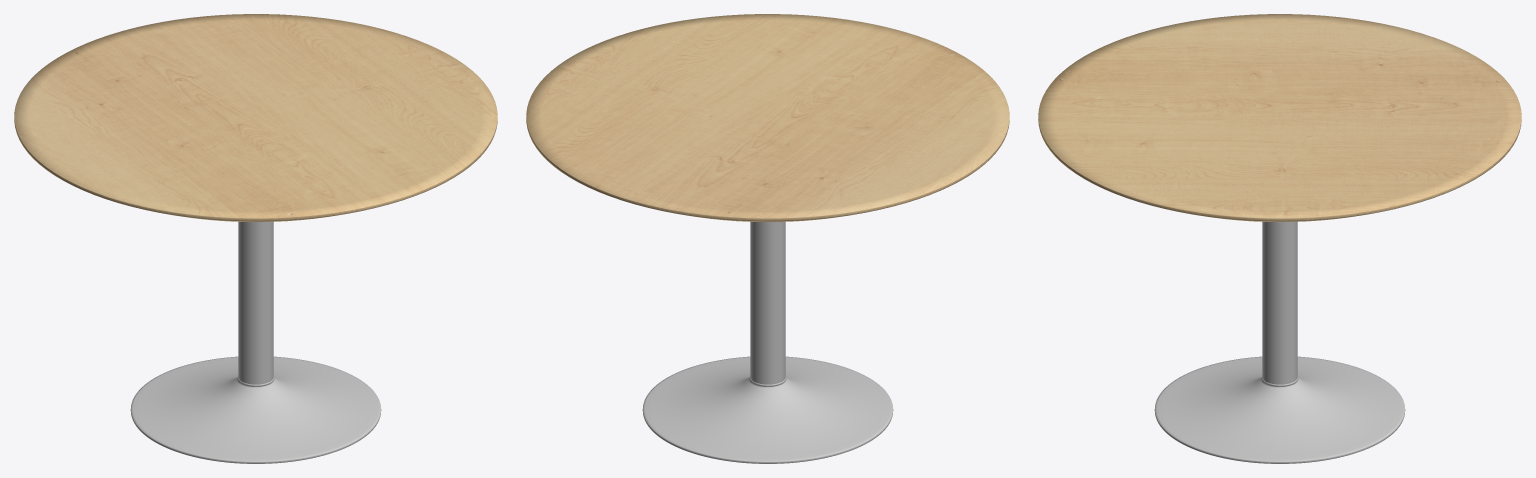
File: Round-Table.glb
3 views of the same model, side by side, from view 1: azimuth 30°, elevation 25°; view 2: azimuth 150°, elevation 25°; view 3: azimuth 270°, elevation 25° (orthographic).
Visible parts, largest first — view 1: top, leg; view 2: top, leg; view 3: top, leg.
Boxes of the visible parts, bbox=[...] form: top: bbox=[14, 14, 497, 221]; leg: bbox=[130, 222, 381, 463]; top: bbox=[526, 14, 1009, 221]; leg: bbox=[642, 222, 893, 463]; top: bbox=[1038, 14, 1521, 222]; leg: bbox=[1154, 222, 1405, 463].
Size of the model in its own units: 1.1 by 0.74 by 1.1.
2 materials, 1 textured.
